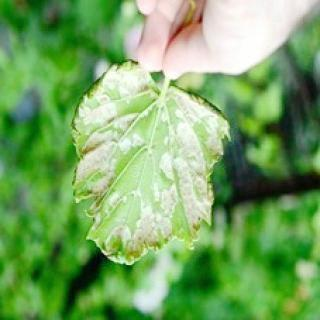grey mildew: (61, 47, 225, 251)
